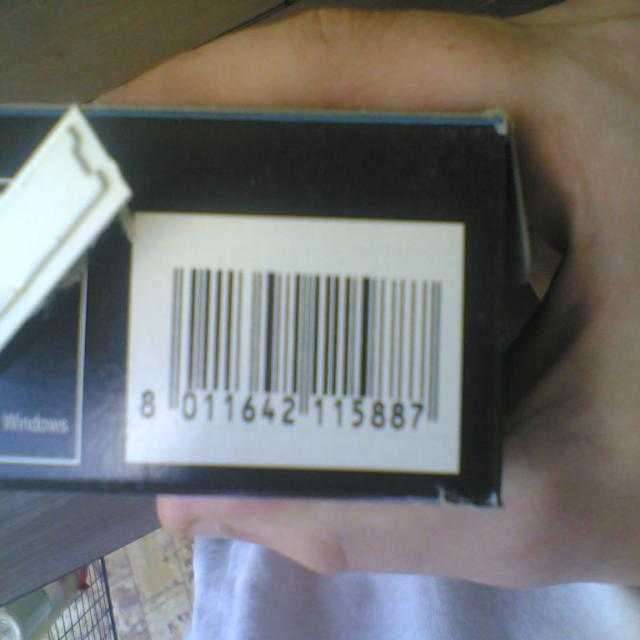barcode: (140, 264, 445, 445)
